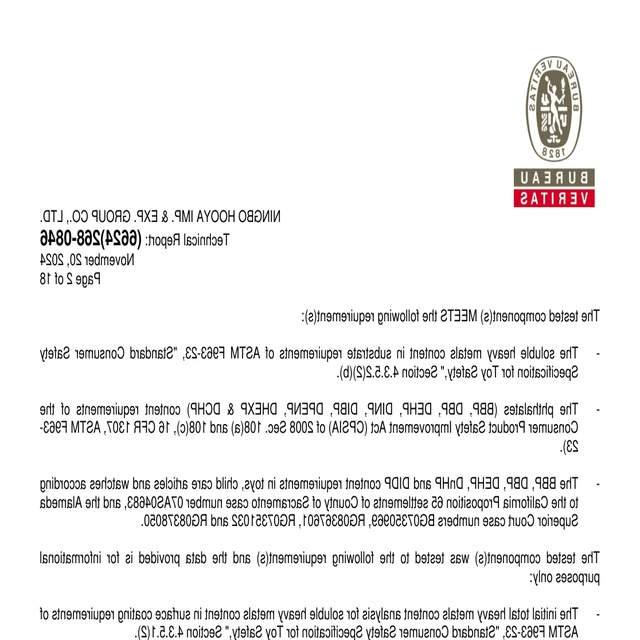bureau_veritas: (511, 51, 606, 213)
